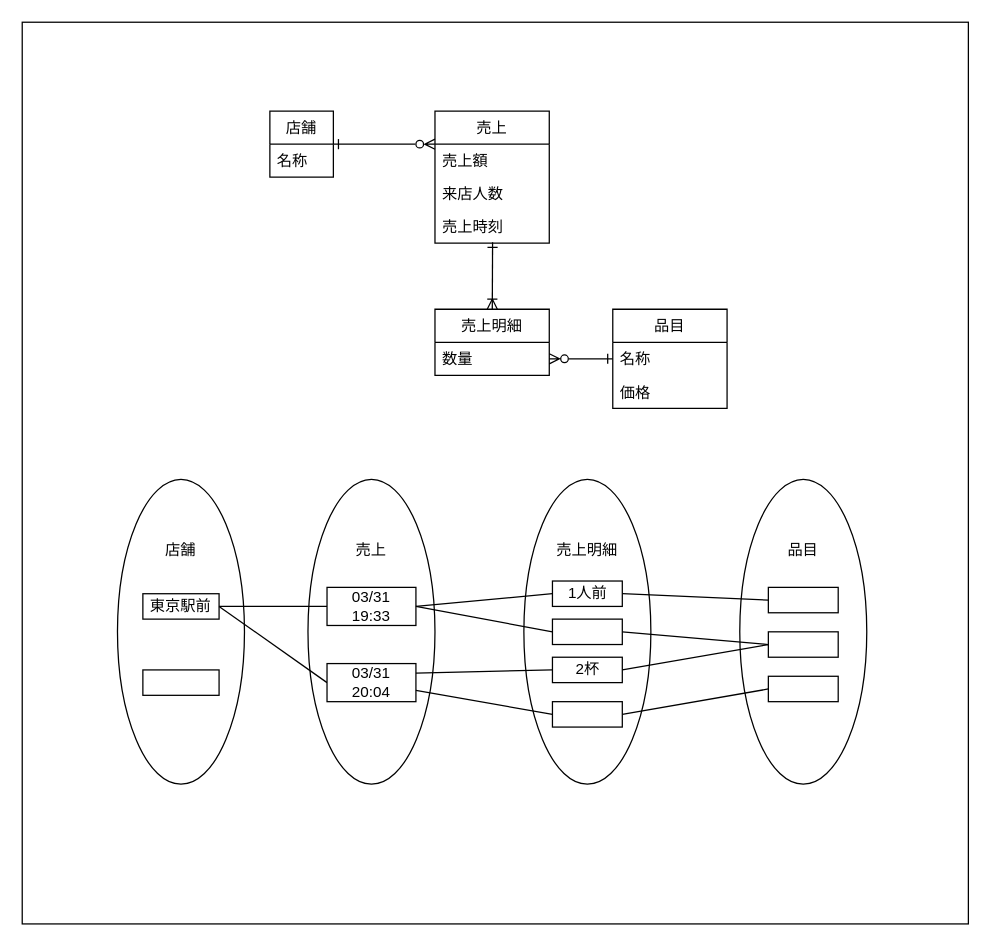
The diagram is 991 pixels wide and 946 high, and some of its shapes have lost their labels. The shapes that lost their labels are listed below. From the top down, each one's centre as x and y in pixels, then its label:
At pixel 802 599: "酒盗".
At pixel 586 631: "3杯".
At pixel 802 644: "生ビール".
At pixel 180 682: "大阪駅前".
At pixel 802 688: "卵焼き".
At pixel 586 713: "2人前".
